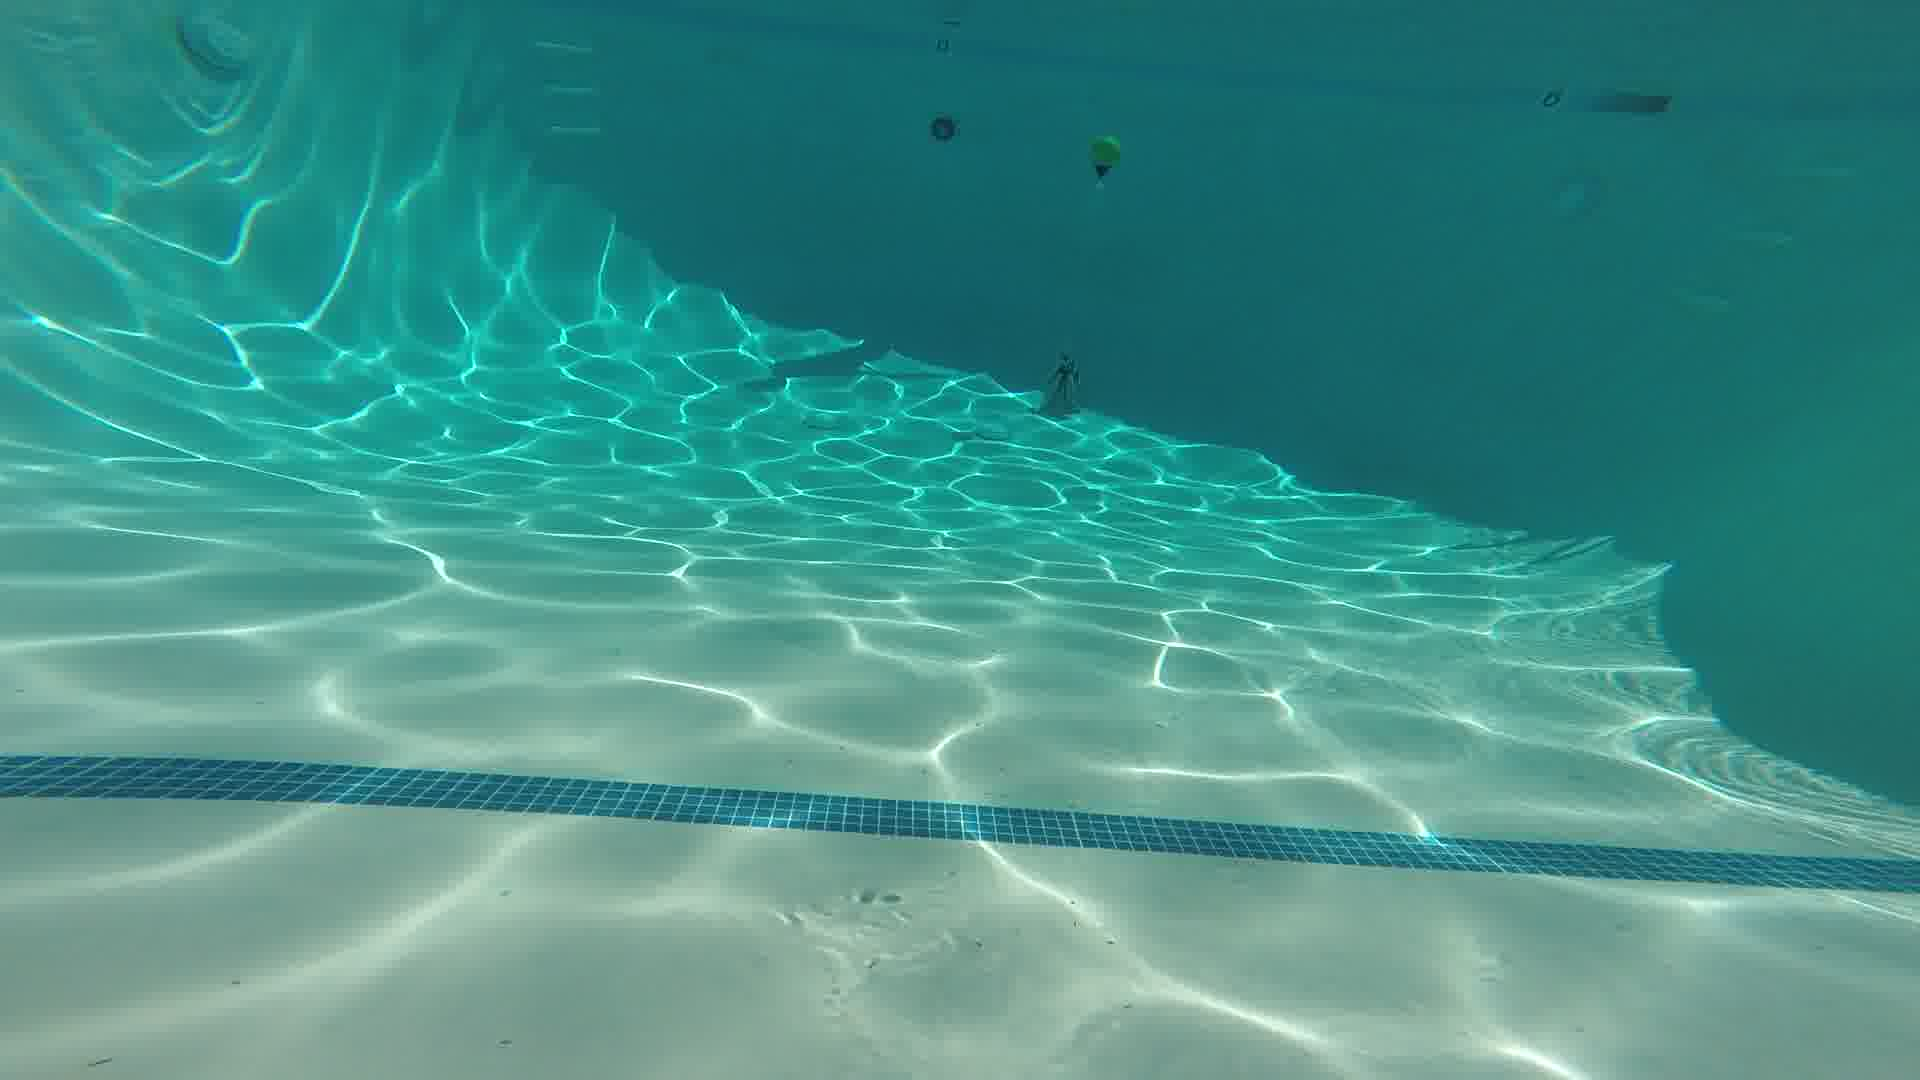yellow_buoy: (1083, 127, 1125, 186)
